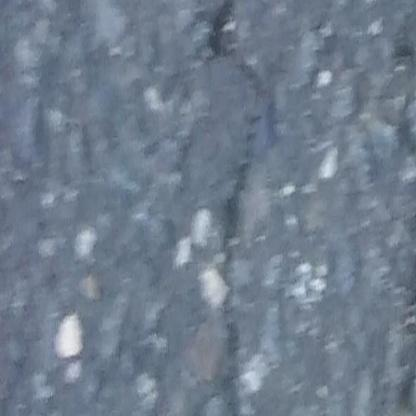Cracks: (204, 0, 267, 416), (389, 0, 416, 413)
